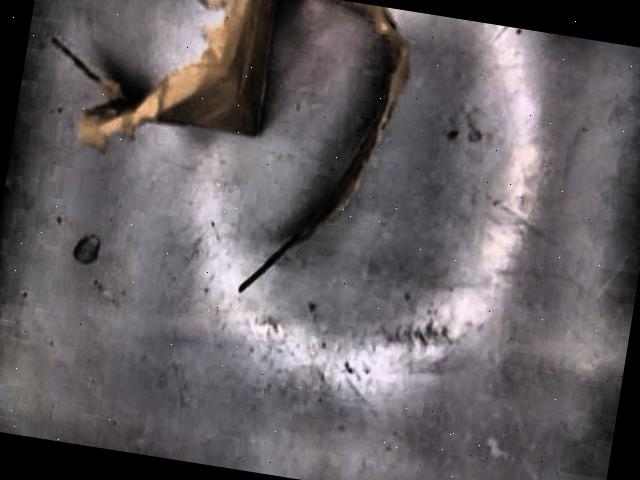Paper: (238, 0, 409, 294), (49, 0, 280, 155)
